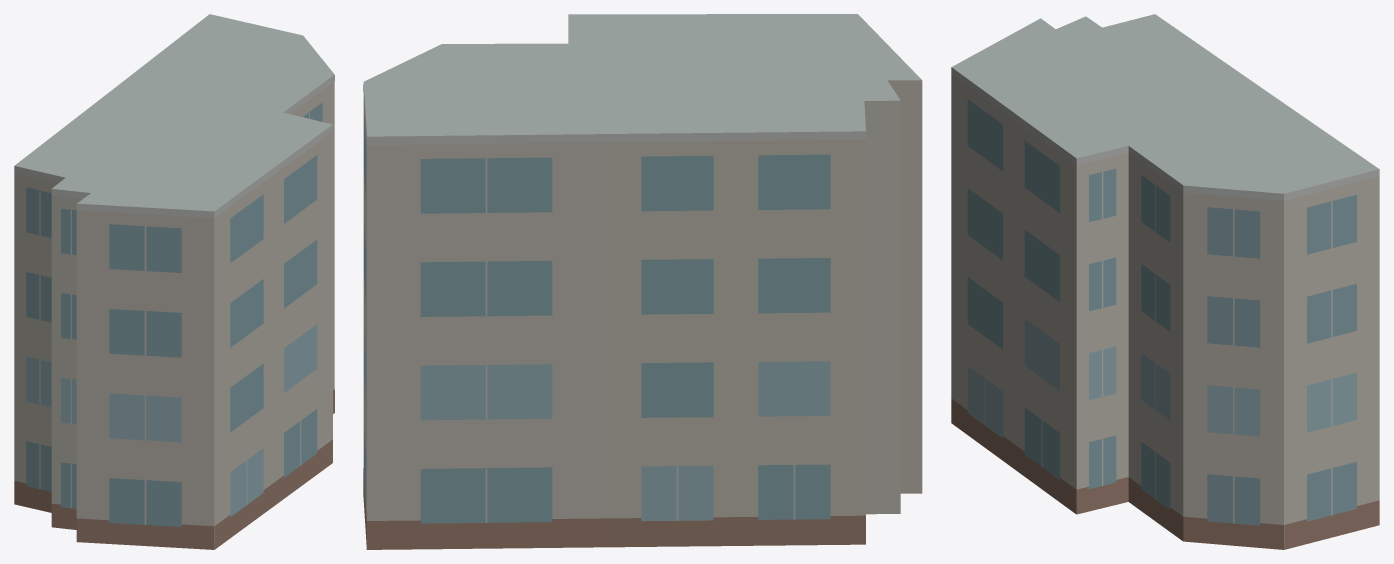
Rendered from residential-3b280f4b-ee25-42cb-9b99-3952368c8a61.glb.
The picture shows the model from 3 angles, left to right: view 1: azimuth 30°, elevation 25°; view 2: azimuth 150°, elevation 25°; view 3: azimuth 270°, elevation 25°; orthographic projection. The views are drawn at different scales.
Visible parts, largest first — view 1: residential-3b280f4b-ee25-42cb-9b99-3952368c8a61.tmp; view 2: residential-3b280f4b-ee25-42cb-9b99-3952368c8a61.tmp; view 3: residential-3b280f4b-ee25-42cb-9b99-3952368c8a61.tmp.
Part boxes in pixels (<box>): residential-3b280f4b-ee25-42cb-9b99-3952368c8a61.tmp: <box>14,14,334,549</box>; residential-3b280f4b-ee25-42cb-9b99-3952368c8a61.tmp: <box>363,14,922,549</box>; residential-3b280f4b-ee25-42cb-9b99-3952368c8a61.tmp: <box>951,14,1379,549</box>.
Bounding box in the file's own units: 13.22 × 12.2 × 13.3.
